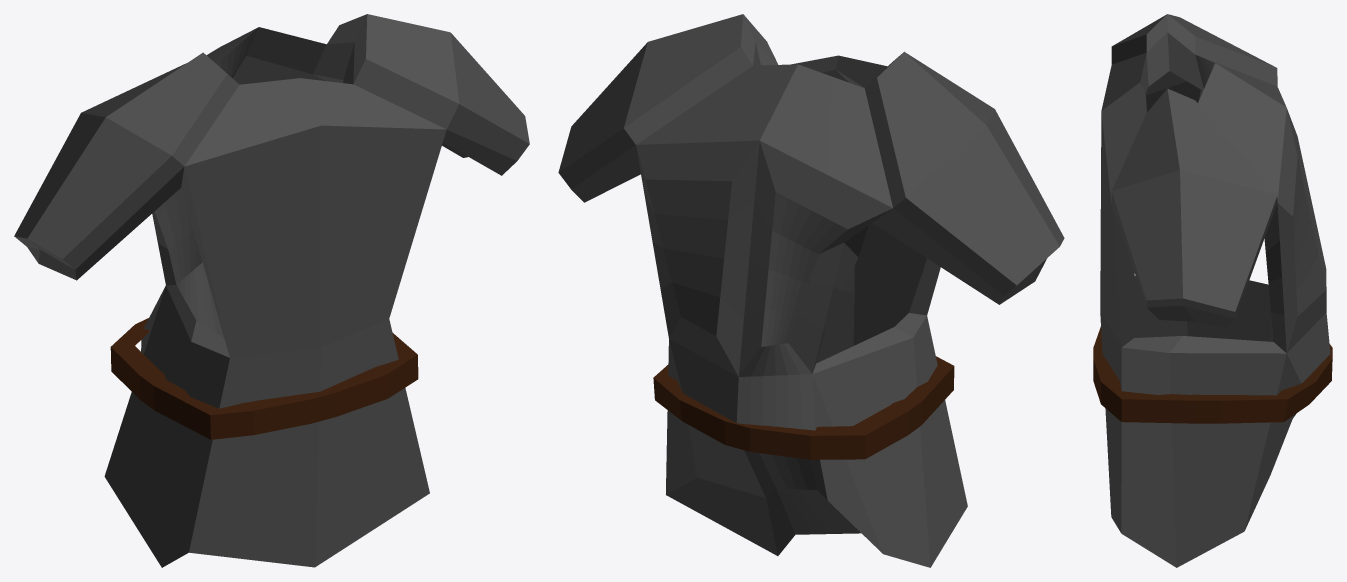
Rendered from Armor Used.glb.
3 views of the same model, side by side, from view 1: azimuth 30°, elevation 25°; view 2: azimuth 150°, elevation 25°; view 3: azimuth 270°, elevation 25° (orthographic). The views are drawn at different scales.
Parts seen in each view (by area): view 1: armor_used; view 2: armor_used; view 3: armor_used.
Part boxes in pixels (x1,y1,x2,y2): armor_used: [14, 14, 529, 567]; armor_used: [558, 14, 1064, 567]; armor_used: [1093, 14, 1332, 567].
Size of the model in its own units: 0.7264 by 0.7146 by 0.3316.
